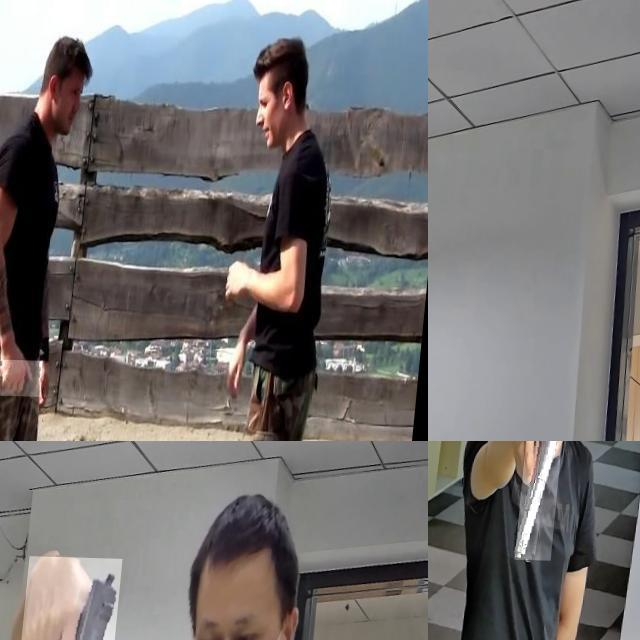-: (0, 357, 50, 395)
gun-knife-thesis - v11 Yolov5 augmented: (16, 554, 128, 640), (524, 441, 572, 558), (428, 193, 457, 335)
